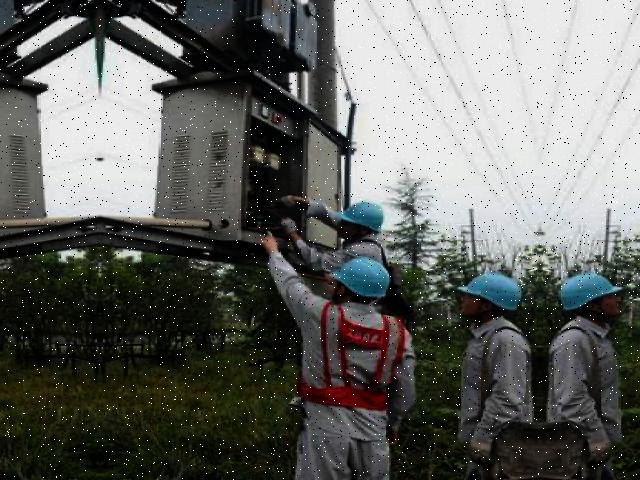Helmet: (550, 266, 627, 316), (450, 266, 524, 316), (324, 253, 391, 302), (329, 197, 388, 236)
